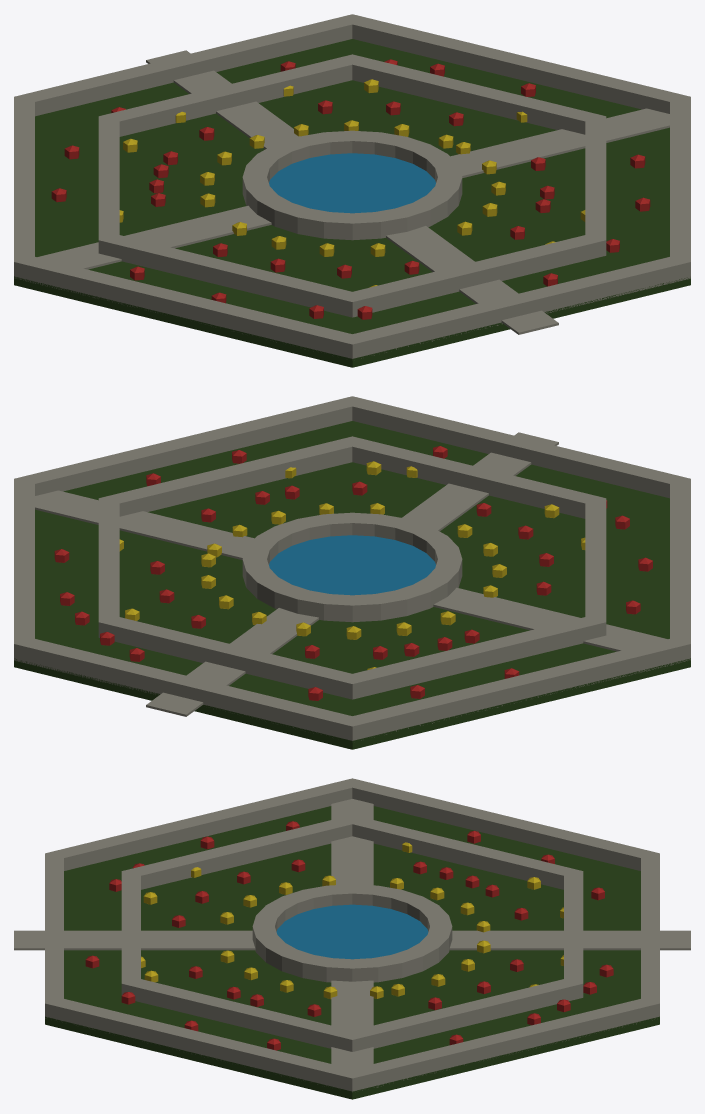
The model's file is formal-garden-hex.glb.
The picture shows the model from 3 angles, top to bottom: view 1: azimuth 30°, elevation 25°; view 2: azimuth 150°, elevation 25°; view 3: azimuth 270°, elevation 25°; orthographic projection. The views are drawn at different scales.
Parts seen in each view (by area): view 1: formal-garden-hex; view 2: formal-garden-hex; view 3: formal-garden-hex.
Boxes of the visible parts, <box> form: formal-garden-hex: <box>14,14,690,367</box>; formal-garden-hex: <box>14,396,690,749</box>; formal-garden-hex: <box>14,778,690,1099</box>.
Size of the model in its own units: 64 by 2.3 by 61.
